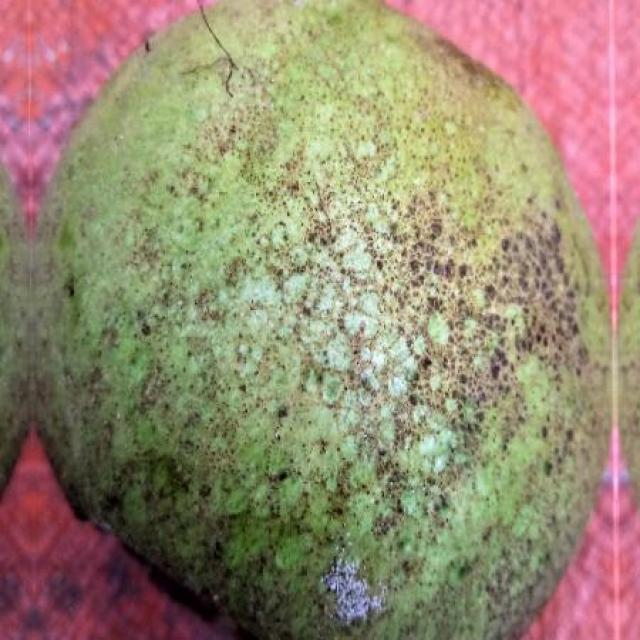Scab: (41, 0, 602, 640)
